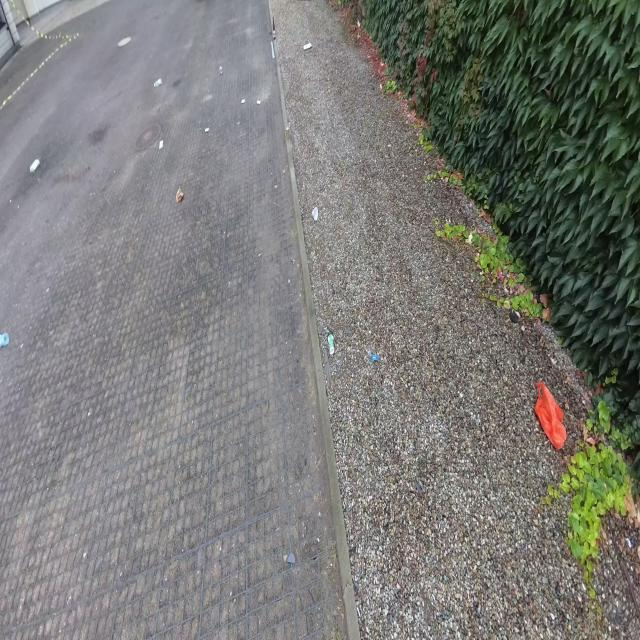rubbish: (535, 382, 567, 450), (29, 157, 40, 174), (327, 332, 335, 354), (0, 330, 9, 348), (175, 187, 183, 204), (303, 40, 312, 51), (270, 40, 275, 59), (311, 206, 318, 219), (272, 18, 276, 40), (158, 137, 163, 150), (154, 79, 162, 86), (371, 354, 378, 360), (219, 64, 222, 74), (241, 98, 246, 103), (205, 127, 209, 132), (256, 100, 261, 103)
